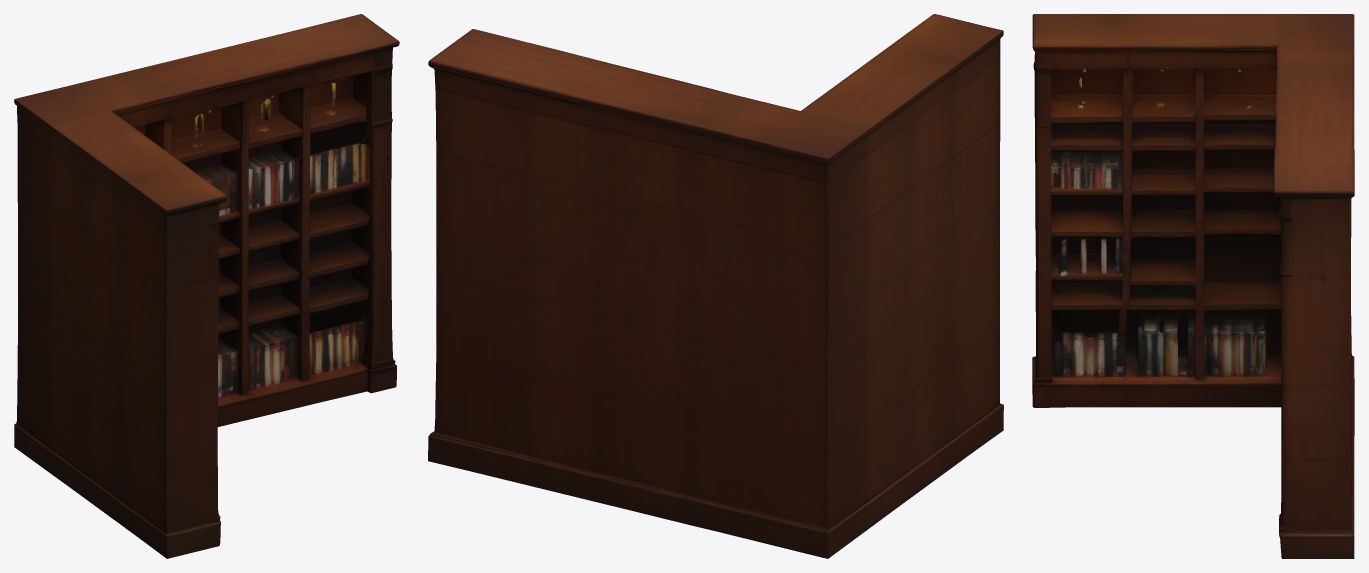
3 renders of one model, left to right at view 1: azimuth 30°, elevation 25°; view 2: azimuth 150°, elevation 25°; view 3: azimuth 270°, elevation 25°, orthographic. The views are drawn at different scales.
Parts seen in each view (by area): view 1: geometry_0; view 2: geometry_0; view 3: geometry_0.
Boxes of the visible parts, bbox=[...] form: geometry_0: bbox=[14, 14, 399, 558]; geometry_0: bbox=[428, 14, 1003, 558]; geometry_0: bbox=[1032, 14, 1354, 558].
Size of the model in its own units: 0.9941 by 0.9516 by 0.7567.
1 material, 1 textured.
